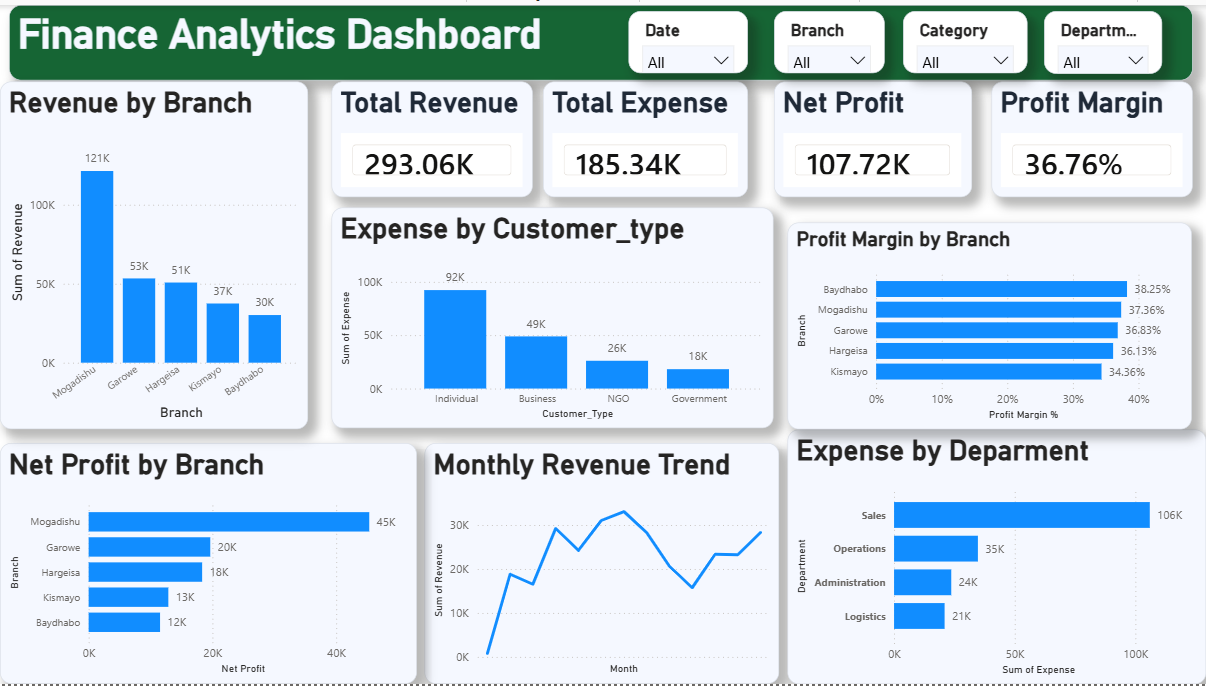

The dashboard page shown, as its layout file describes it:
{"tool":"powerbi","page":{"name":"Financial Overview","canvas":[1280,720],"ordinal":0},"visuals":[{"type":"textbox","title":"Finance Analytics Dashboard","box":[10,0,1255,80],"z":0},{"type":"cardVisual","title":"Total Revenue","fields":{"Data":["Sum(Data cleanin.Revenue)"]},"box":[351.5,81.3,213.5,122.8],"z":1000},{"type":"cardVisual","title":"Total Expense","fields":{"Data":["Sum(Data cleanin.Expense)"]},"box":[576.4,81.3,217.3,122.8],"z":2000},{"type":"cardVisual","title":"Net Profit","fields":{"Data":["Data cleanin.Net Profit"]},"box":[820.2,81.3,209.8,122.8],"z":3000},{"type":"cardVisual","title":"Profit Margin","fields":{"Data":["Data cleanin.Profit Margin %"]},"box":[1050.7,81.3,213.5,122.8],"z":4000},{"type":"clusteredColumnChart","title":"Expense by Customer_type","fields":{"Y":["Sum(Data cleanin.Expense)"],"Category":["Data cleanin.Customer_Type"]},"box":[351.5,215.4,468.7,234.3],"z":5000},{"type":"lineChart","title":"Monthly Revenue Trend","fields":{"Category":["Data cleanin.Date.Variation.Date Hierarchy.Month"],"Y":["Sum(Data cleanin.Revenue)"]},"box":[449.8,464.9,376.1,255.1],"z":6000},{"type":"clusteredBarChart","title":"Net Profit by Branch","fields":{"Category":["Data cleanin.Branch"],"Y":["Data cleanin.Net Profit"]},"box":[0,464.9,442.2,255.1],"z":7000},{"type":"clusteredBarChart","title":"Expense by Deparment","fields":{"Category":["Data cleanin.Department"],"Y":["Sum(Data cleanin.Expense)"]},"box":[835.3,449.8,444.1,270.2],"z":8000},{"type":"clusteredColumnChart","title":"Revenue  by Branch","fields":{"Category":["Data cleanin.Branch"],"Y":["Sum(Data cleanin.Revenue)"]},"box":[0,81.3,326.9,368.5],"z":9000},{"type":"clusteredBarChart","title":"Profit Margin by Branch","fields":{"Category":["Data cleanin.Branch"],"Y":["Data cleanin.Profit Margin %"]},"box":[835.3,230.6,429,219.2],"z":10000},{"type":"slicer","fields":{"Values":["Data cleanin.Date"]},"box":[667.1,5.7,126.6,66.1],"z":11000},{"type":"slicer","fields":{"Values":["Data cleanin.Branch"]},"box":[820.2,5.7,117.2,66.1],"z":12000},{"type":"slicer","fields":{"Values":["Data cleanin.Department"]},"box":[1107.1,6.4,125.7,66.8],"z":13000},{"type":"slicer","fields":{"Values":["Data cleanin.Expense","Data cleanin.Category"]},"box":[958.1,5.7,132.3,66.1],"z":14000}]}

Visuals, with their boxes in screenshot pixels (x1, y1, x2, y2), scaled from the page's 1280x720 canvas onto the 1206x688 screenshot:
"Finance Analytics Dashboard" textbox: rect(9, 0, 1192, 76)
"Total Revenue" cardVisual: rect(331, 78, 532, 195)
"Total Expense" cardVisual: rect(543, 78, 748, 195)
"Net Profit" cardVisual: rect(773, 78, 970, 195)
"Profit Margin" cardVisual: rect(990, 78, 1191, 195)
"Expense by Customer_type" clusteredColumnChart: rect(331, 206, 773, 430)
"Monthly Revenue Trend" lineChart: rect(424, 444, 778, 687)
"Net Profit by Branch" clusteredBarChart: rect(0, 444, 417, 687)
"Expense by Deparment" clusteredBarChart: rect(787, 430, 1205, 687)
"Revenue  by Branch" clusteredColumnChart: rect(0, 78, 308, 430)
"Profit Margin by Branch" clusteredBarChart: rect(787, 220, 1191, 430)
slicer - Data cleanin.Date: rect(629, 5, 748, 69)
slicer - Data cleanin.Branch: rect(773, 5, 883, 69)
slicer - Data cleanin.Department: rect(1043, 6, 1162, 70)
slicer - Data cleanin.Expense x Data cleanin.Category: rect(903, 5, 1027, 69)
